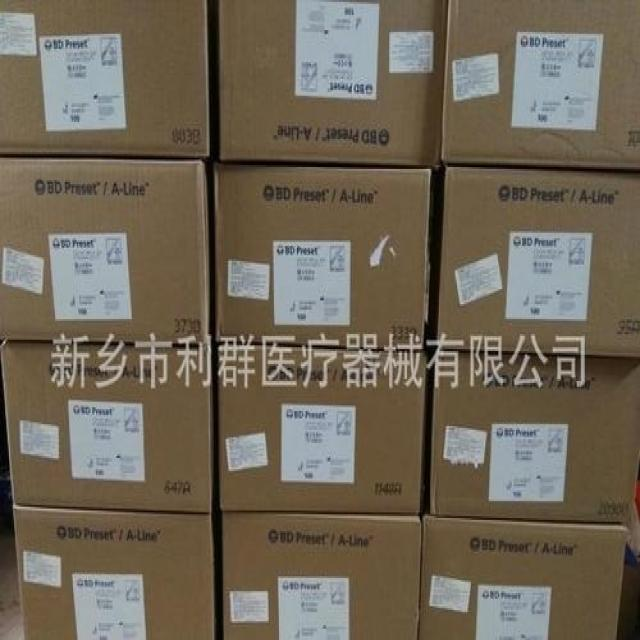box: (214, 161, 431, 349), (0, 328, 215, 514), (0, 156, 211, 345), (436, 163, 640, 358), (218, 0, 448, 167), (430, 349, 640, 524), (218, 345, 429, 514), (440, 0, 640, 171), (12, 484, 220, 640), (420, 507, 627, 640), (223, 512, 421, 640)
